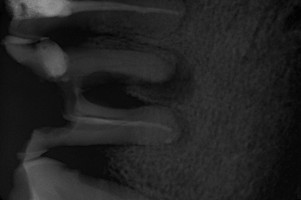Dental Caries: (82, 51, 197, 108)
Furcation Involvement: (166, 111, 193, 148)
